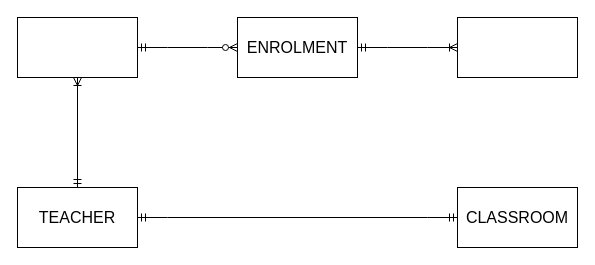
Some shapes in this 595 by 265 pixel diagram are drawn without their labels. The shapes that lost their labels are listed below. From the top down, each one's centre as x and y in pixels, then its label:
point 77,47: SUBJECT
point 517,47: STUDENT
